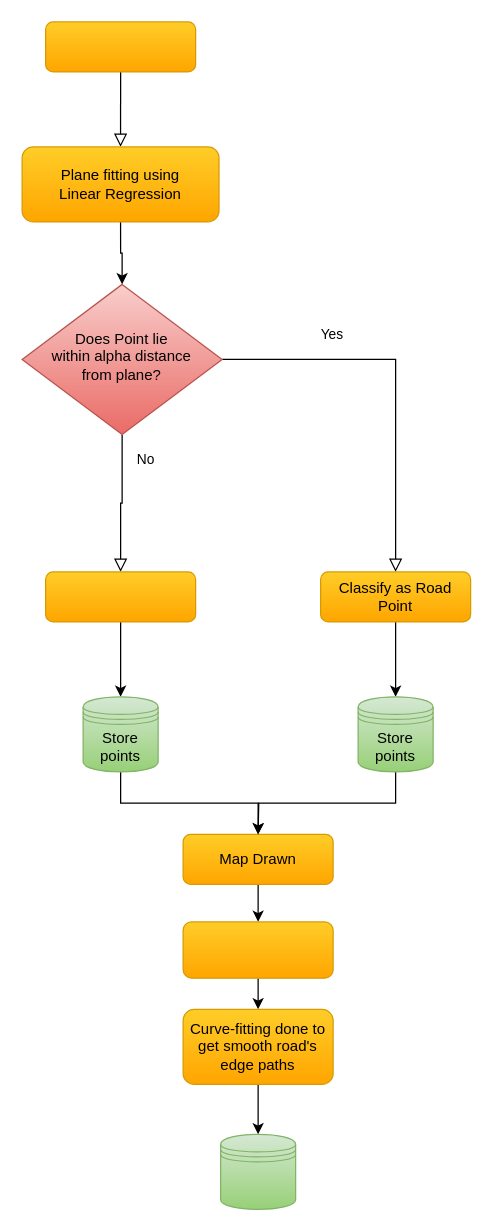
Image size: 493x1231. Some labels were removed from this diagram. Here are the shapes that lost their labels. From the top down, the centre of each, then its label:
At point (120, 46): "Depth Data from topic".
At point (120, 596): "Classify as background Point".
At point (257, 949): "Centre points of boundary taken".
At point (257, 1171): "Store road edges".
